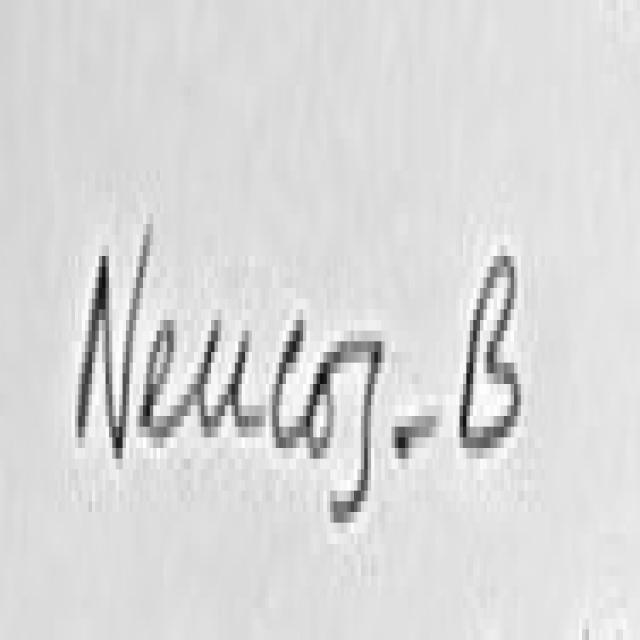B: (463, 256, 524, 448)
N: (78, 224, 153, 459)
c: (272, 320, 306, 448)
e: (140, 320, 197, 437)
o: (306, 363, 334, 459)
s: (334, 341, 385, 517)
u: (197, 320, 266, 437)
